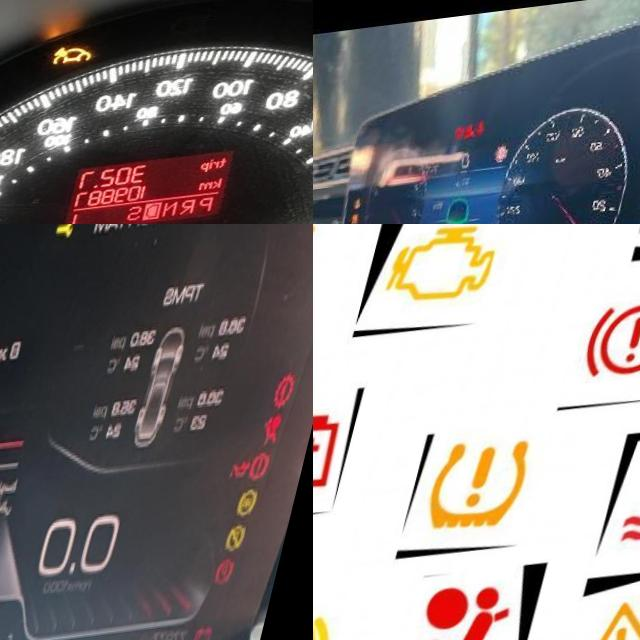High Engine Coolant Temperature: (2, 622, 23, 640)
Seat Belt: (488, 127, 499, 141)
